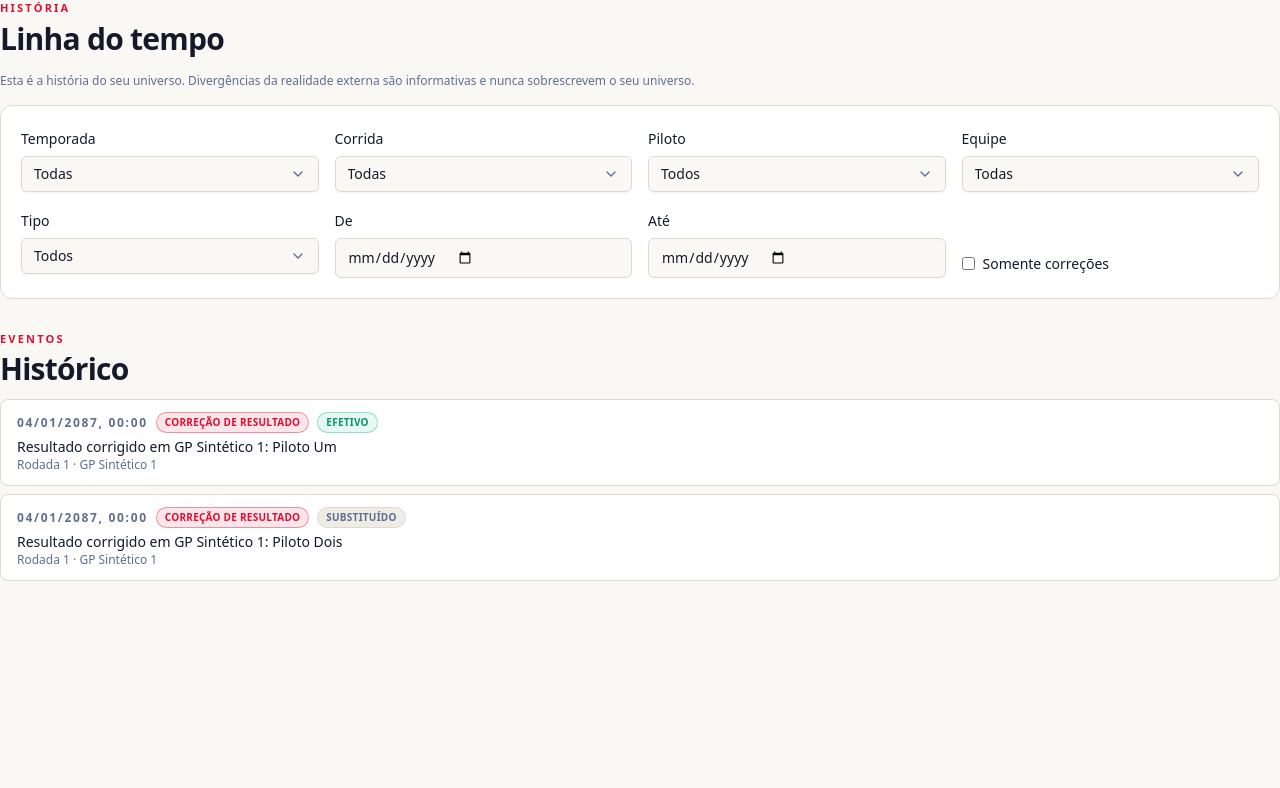
it: TimelineView › 5) abre detalhe com cadeia de supersession
The width and height of the screenshot is (1280, 788).
Click the button named "Resultado corrigido em GP Sintético 1: Piloto Um" at (82, 422), box 0,399 -> 1279,486
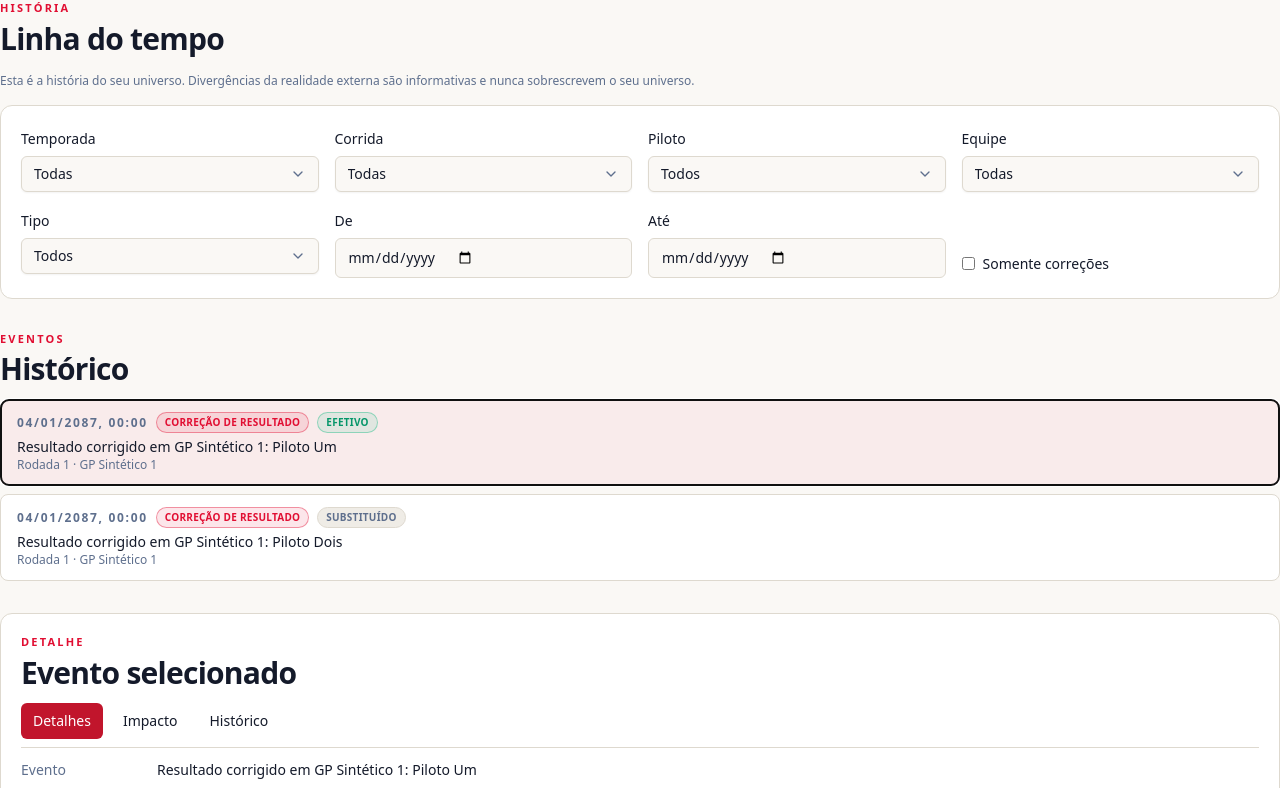
Click the tab "Histórico" at (239, 720), box 197,702 -> 280,738
(page scrolled)
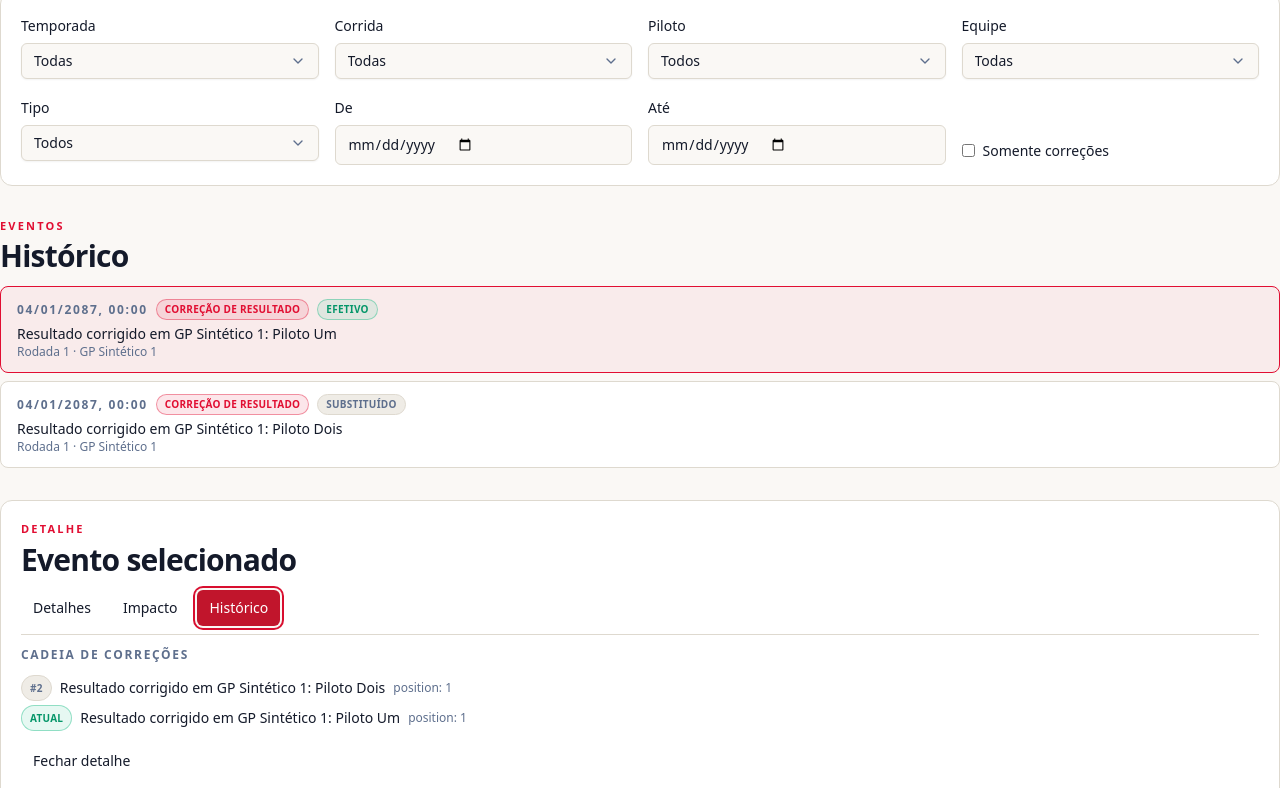
Expected: the text "Cadeia de correções" is shown, 21,646 -> 189,662
Expected: the text "#2" is shown, 21,674 -> 52,700
Expected: the text "Resultado corrigido em GP Sintético 1: Piloto Dois" below "Cadeia de correções" is shown, 60,678 -> 385,696
